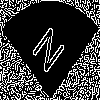N: (25, 25, 67, 82)
